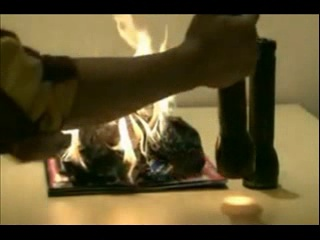fire: (114, 108, 150, 179), (114, 14, 167, 56), (151, 96, 173, 149), (60, 129, 85, 167)
